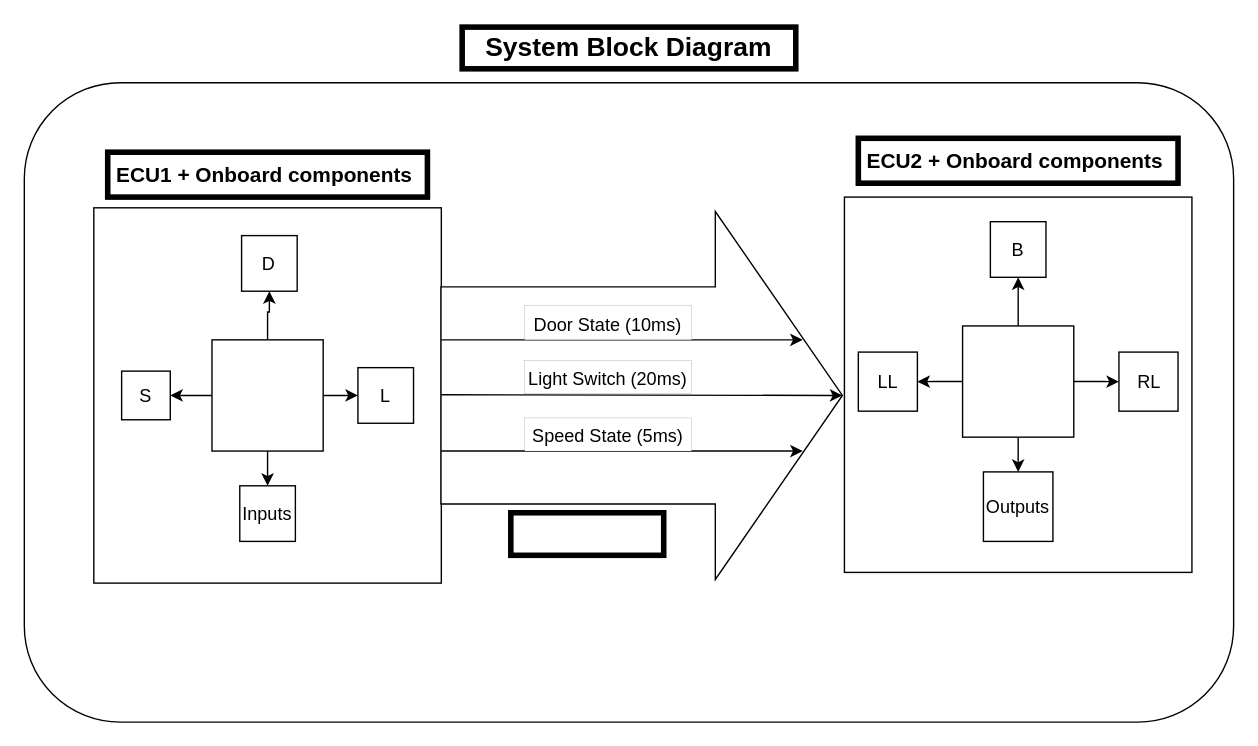
Image size: 1258x746. Some labels were removed from this diagram. Here are the shapes that lost their labels. From the top down, the centre of each, then its label:
At pixel 267 394: "ECU1".
At pixel 1017 381: "ECU2".
At pixel 586 533: "CAN Bus".
